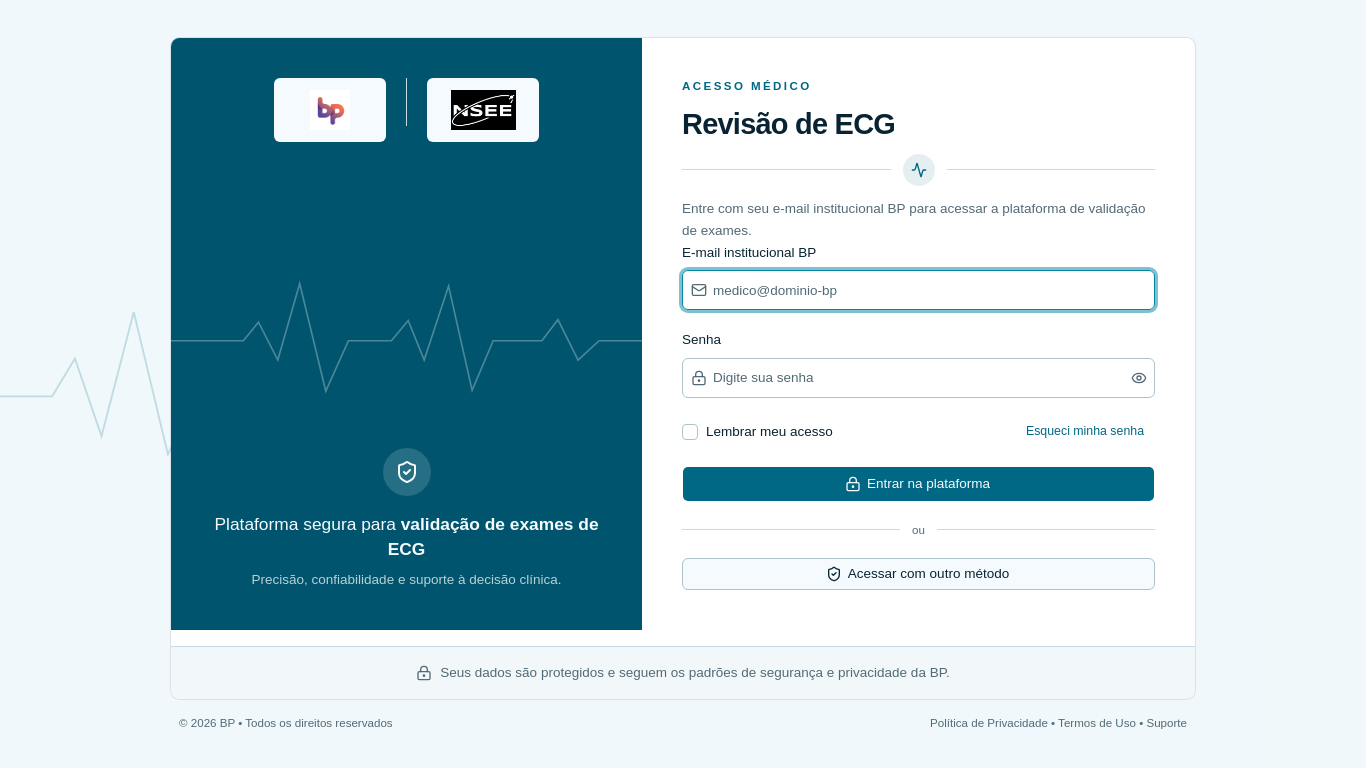
LoginPage › mantém a recuperação de senha como orientação local
The image size is (1366, 768).
Click the button "Esqueci minha senha" at [1085, 432], box [1015, 418, 1155, 446]
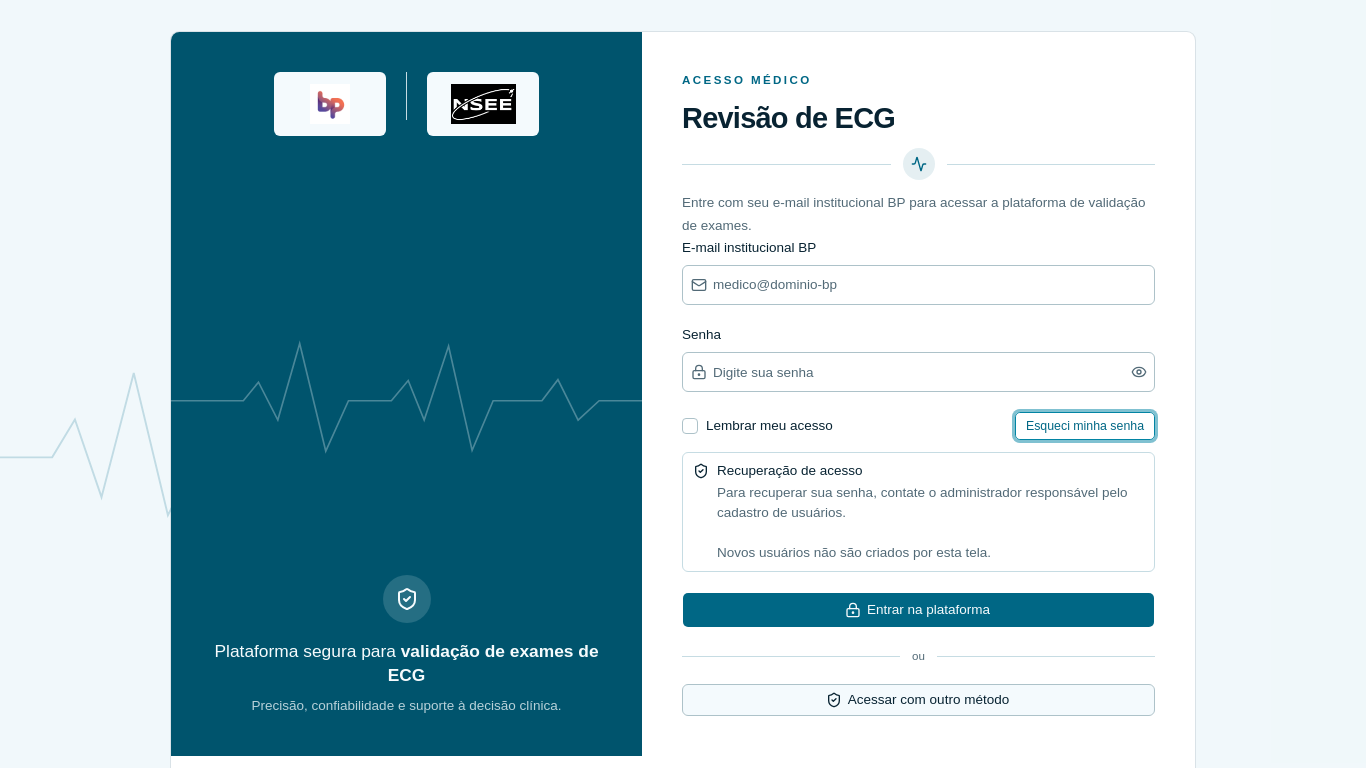
Check: the button "Esqueci minha senha" is expanded, box [1015, 412, 1155, 440]
Check: the text "Para recuperar sua senha, contate o administrador responsável pelo cadastro de usuários." is shown, box [717, 485, 1128, 520]
Check: the text "Novos usuários não são criados por esta tela." is shown, box [717, 545, 991, 560]
